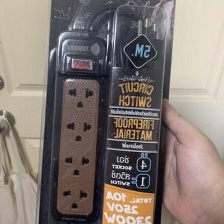book: (33, 0, 180, 224)
three_eye_plug: (46, 29, 112, 224)
